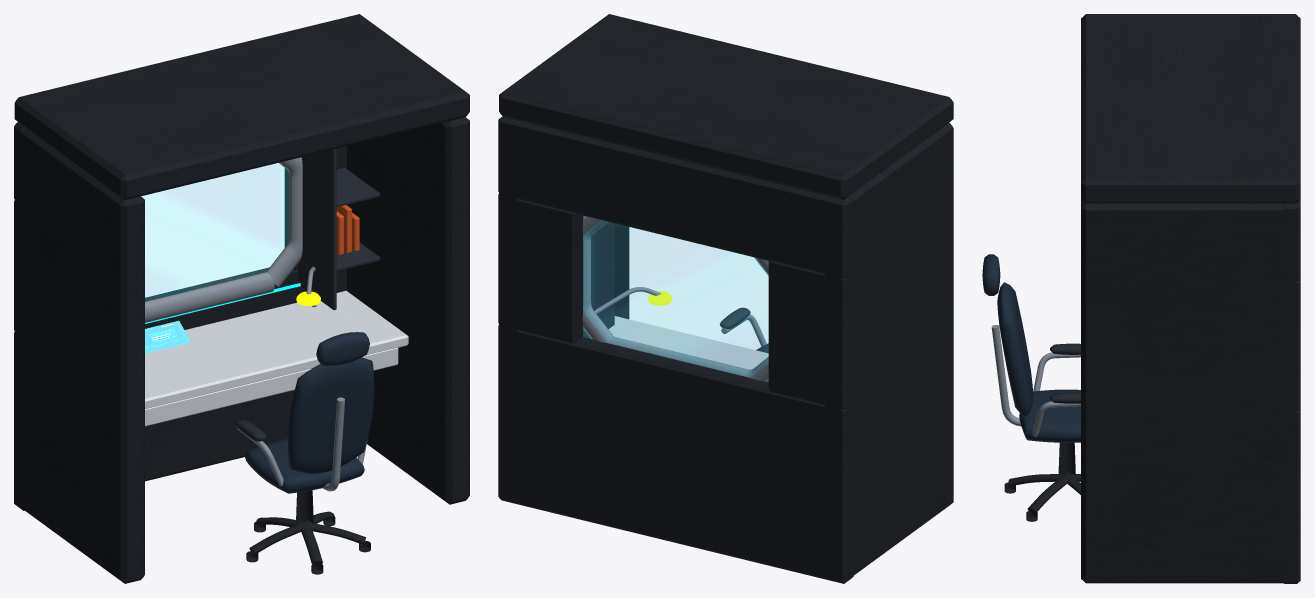
The model's file is desk_r1_05.glb.
3 views of the same model, side by side, from view 1: azimuth 30°, elevation 25°; view 2: azimuth 150°, elevation 25°; view 3: azimuth 270°, elevation 25° (orthographic).
Visible parts, largest first — view 1: Desk05_TitaniumAlcoveShell, Desk05_BuiltInDeskTop, Desk05_TranslucentHullWindow, Desk05_NavyFlightChair_BackCushion, Desk05_SideCubbies, Desk05_OctagonalWindowBezel, Desk05_NavyFlightChair_SwivelBase, Desk05_NavyFlightChair_SeatCushion, Desk05_NavyFlightChair_Headrest, Desk05_DataSlates, Desk05_SlimOLED, Desk05_NavyFlightChair_BackSpine; view 2: Desk05_TitaniumAlcoveShell, Desk05_TranslucentHullWindow, Desk05_OctagonalWindowBezel, Desk05_BuiltInDeskTop, Desk05_SideCubbies; view 3: Desk05_TitaniumAlcoveShell, Desk05_NavyFlightChair_BackCushion, Desk05_NavyFlightChair_SeatCushion, Desk05_NavyFlightChair_SwivelBase, Desk05_NavyFlightChair_BackSpine, Desk05_NavyFlightChair_Headrest.
Part boxes in pixels (box(x1,y1,x2,y2)): Desk05_TitaniumAlcoveShell: box(14, 14, 469, 583); Desk05_BuiltInDeskTop: box(145, 290, 408, 426); Desk05_TranslucentHullWindow: box(142, 163, 288, 300); Desk05_NavyFlightChair_BackCushion: box(288, 357, 374, 474); Desk05_SideCubbies: box(297, 148, 380, 310); Desk05_OctagonalWindowBezel: box(145, 157, 302, 322); Desk05_NavyFlightChair_SwivelBase: box(246, 490, 370, 574); Desk05_NavyFlightChair_SeatCushion: box(245, 439, 364, 493); Desk05_NavyFlightChair_Headrest: box(316, 332, 369, 365); Desk05_DataSlates: box(336, 205, 359, 254); Desk05_SlimOLED: box(145, 320, 190, 353); Desk05_NavyFlightChair_BackSpine: box(322, 397, 344, 491); Desk05_TitaniumAlcoveShell: box(498, 14, 953, 583); Desk05_TranslucentHullWindow: box(583, 216, 767, 381); Desk05_OctagonalWindowBezel: box(582, 215, 768, 381); Desk05_BuiltInDeskTop: box(608, 316, 768, 369); Desk05_SideCubbies: box(583, 222, 614, 338); Desk05_TitaniumAlcoveShell: box(1081, 14, 1300, 583); Desk05_NavyFlightChair_BackCushion: box(997, 282, 1033, 416); Desk05_NavyFlightChair_SeatCushion: box(1019, 389, 1080, 442); Desk05_NavyFlightChair_SwivelBase: box(1004, 442, 1080, 521); Desk05_NavyFlightChair_BackSpine: box(991, 325, 1020, 426); Desk05_NavyFlightChair_Headrest: box(982, 254, 1000, 295).
Bounding box in the file's own units: 2 × 2.24 × 1.6.
11 materials, 11 textured.
